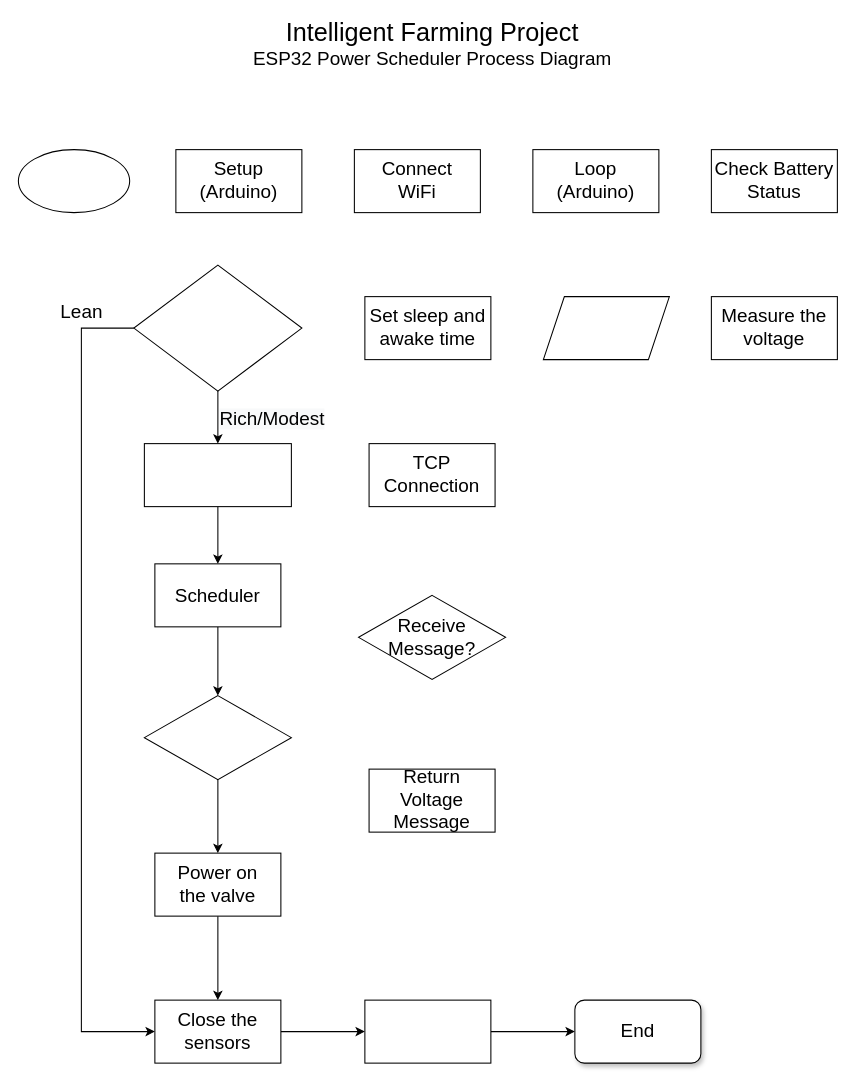
Image size: 856x1089. Some labels were removed from this diagram. The centre of each missing label's shape, as x and y in pixels:
"Power on the pump & Sensors" belongs at (217,475).
"Rich/Modest /lean" belongs at (217,327).
"Sampling Time limit?" belongs at (217,737).
"Sleep" belongs at (427,1031).
"Start" belongs at (73,181).
"Store the voltage" belongs at (605,328).
